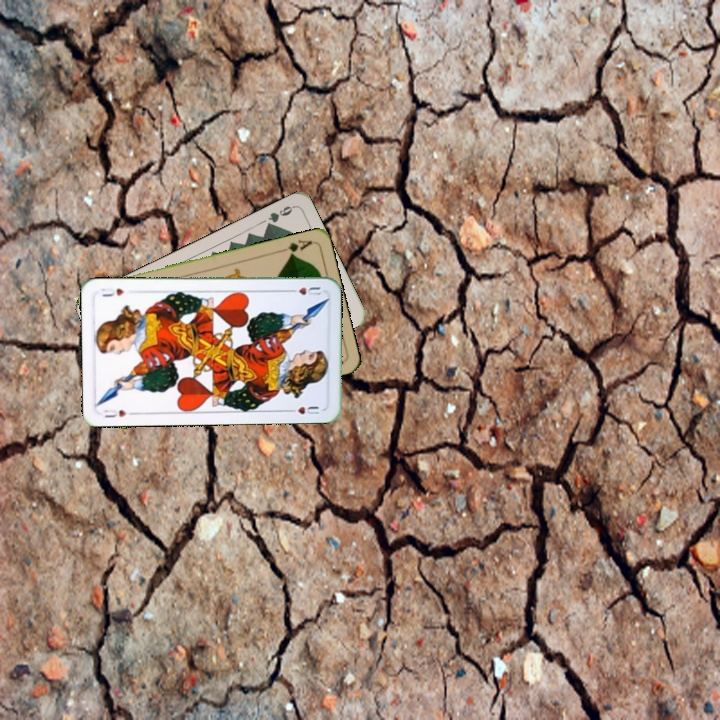G9: (262, 202, 297, 231)
GA: (275, 236, 315, 259)
HU: (284, 283, 323, 298), (101, 406, 129, 420)
